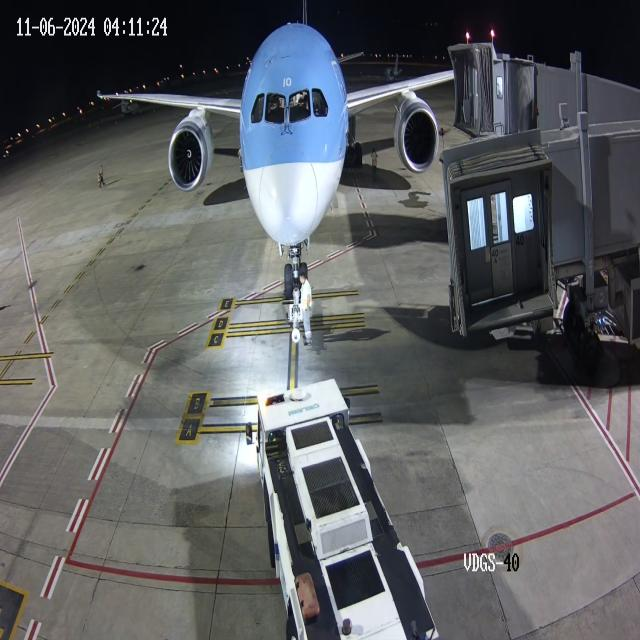bridge: (485, 24, 537, 139)
plane: (95, 17, 443, 295)
window: (248, 86, 330, 126)
